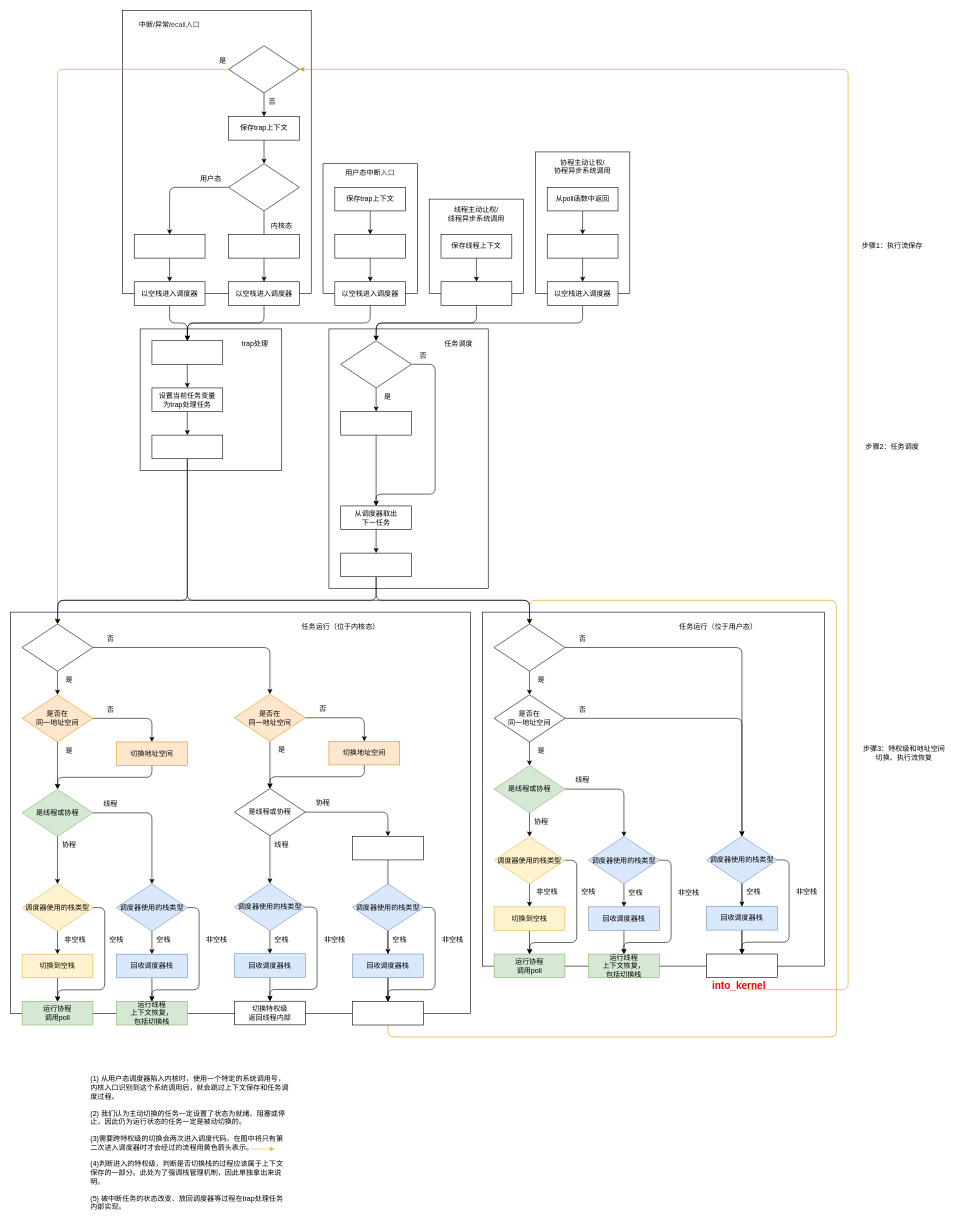
The diagram is 959 pixels wide and 1224 high, and some of its shapes have lost their labels. The centre of each missing label's shape, as x and y in pixels:
"为用户态调度器 分配栈" belongs at pixel 387 848.
"从何种特权级进入 (4)" belongs at pixel 263 187.
"以非空栈进入调度器" belongs at pixel 476 293.
"任务是否在内核态" belongs at pixel 57 647.
"任务是否在用户态" belongs at pixel 529 647.
"切换内核栈" belongs at pixel 263 246.
"切换到内核栈" belongs at pixel 169 246.
"切换栈" belongs at pixel 370 246.
"切换特权级 以空栈返回 用户态调度器" belongs at pixel 387 1013.
"切换特权级 进入内核态调度器(1)" belongs at pixel 741 965.
"向trap处理任务传入 原任务和trap参数(5)" belongs at pixel 187 447.
"当前任务 放回调度器" belongs at pixel 376 423.
"当前任务状态 是否 为 就绪" belongs at pixel 376 364.
"是否是特定的 系统调用(1)" belongs at pixel 263 69.
"根据返回值修改 任务状态" belongs at pixel 582 246.
"获取trap处理任务 （唤醒或创建）" belongs at pixel 187 352.
"设置当前任务变量 为下一任务" belongs at pixel 376 565.
